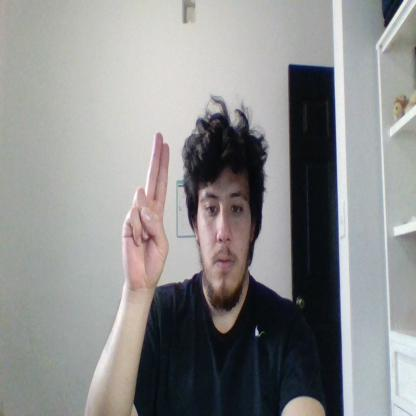U: (122, 130, 169, 291)
